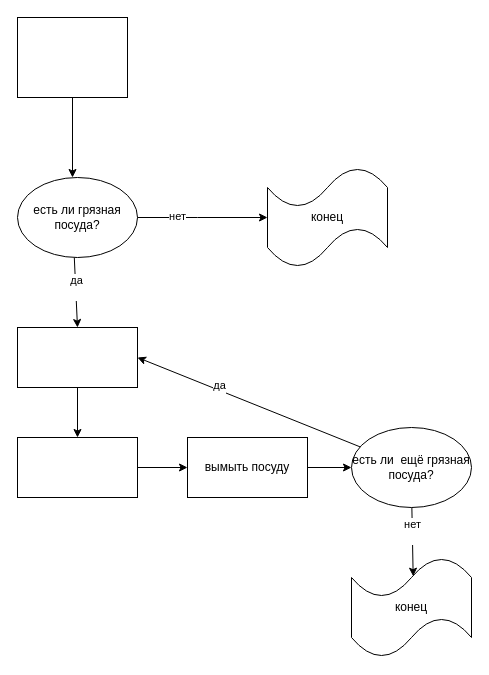
This 489x675 diagram has some shape labels left out. Here are the shapes that lost their labels. From the top down, the box of each, then its label:
(16, 16, 128, 98): пойти на кухню
(16, 326, 138, 388): взять грязную грязную посуду
(16, 436, 138, 498): намылить губку
